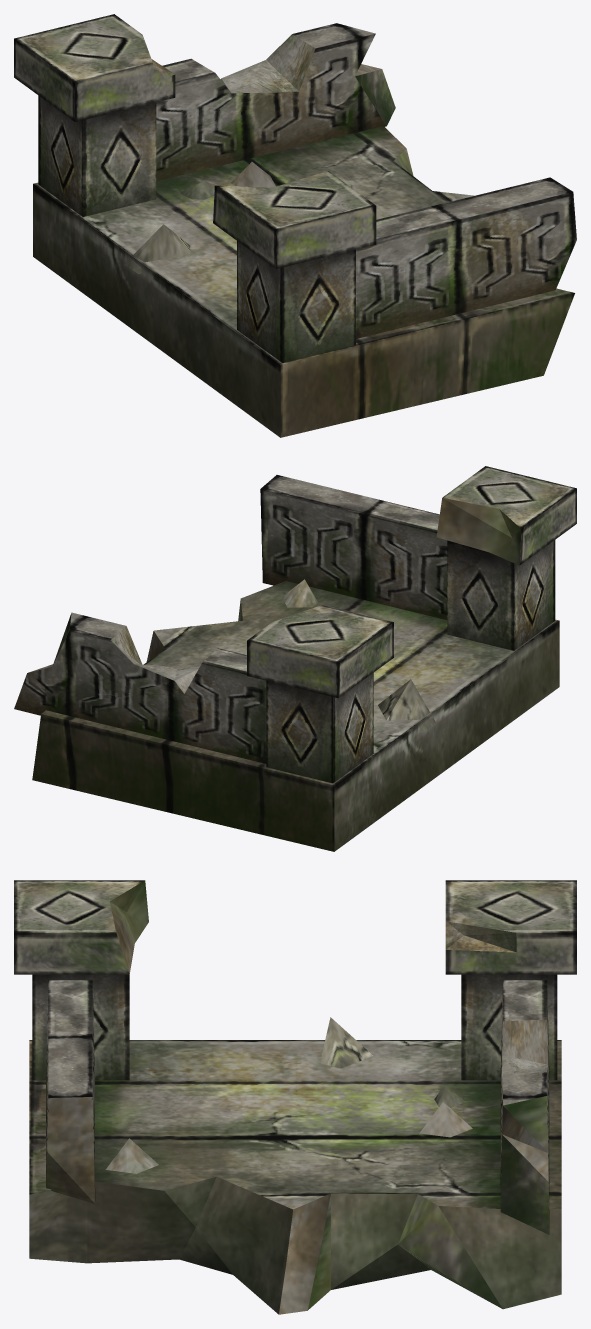
The model's file is STR_BridgeStoneF.FBX.
3 renders of one model, top to bottom at view 1: azimuth 30°, elevation 25°; view 2: azimuth 150°, elevation 25°; view 3: azimuth 270°, elevation 25°, orthographic. The views are drawn at different scales.
Parts seen in each view (by area): view 1: STR_BridgeStoneF; view 2: STR_BridgeStoneF; view 3: STR_BridgeStoneF.
Part boxes in pixels (x1=…): STR_BridgeStoneF: x1=14, y1=14, x2=576, y2=437; STR_BridgeStoneF: x1=14, y1=466, x2=576, y2=851; STR_BridgeStoneF: x1=14, y1=880, x2=576, y2=1314.
Bounding box in the file's own units: 468 × 260 × 562.
